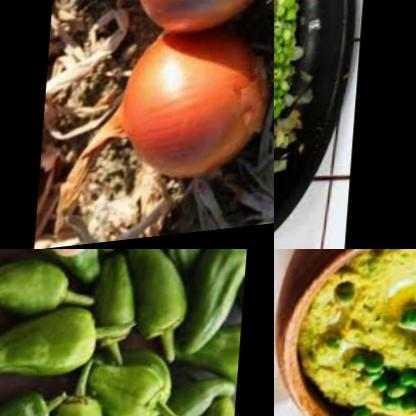hot pepper: (0, 289, 144, 392), (128, 249, 200, 372), (0, 251, 110, 330), (81, 344, 195, 416), (187, 249, 253, 369), (43, 359, 125, 416), (0, 249, 107, 289), (155, 374, 243, 416), (162, 249, 219, 277), (172, 397, 241, 416)
onion: (109, 17, 274, 191), (127, 0, 274, 46)
peas: (274, 0, 317, 249), (382, 343, 416, 416), (343, 351, 398, 387), (330, 284, 367, 317), (395, 304, 416, 341), (329, 330, 353, 360)
